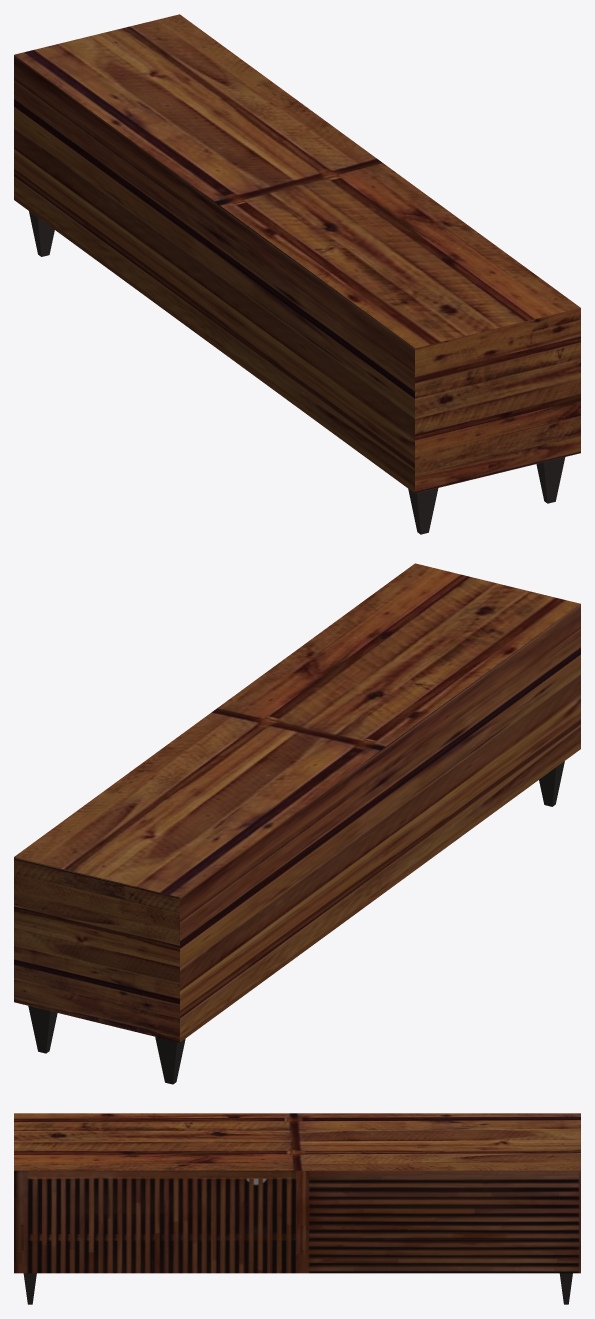
The model's file is TVstand.glb.
3 renders of one model, top to bottom at view 1: azimuth 30°, elevation 25°; view 2: azimuth 150°, elevation 25°; view 3: azimuth 270°, elevation 25°, orthographic. The views are drawn at different scales.
Visible parts, largest first — view 1: polySurface25; view 2: polySurface25; view 3: polySurface25.
Part boxes in pixels (x1=…): polySurface25: x1=14, y1=14, x2=580, y2=534; polySurface25: x1=14, y1=563, x2=580, y2=1084; polySurface25: x1=14, y1=1113, x2=580, y2=1304.
Bounding box in the file's own units: 0.5492 × 0.6242 × 2.3.
Materials: 2 (1 with a texture image).
